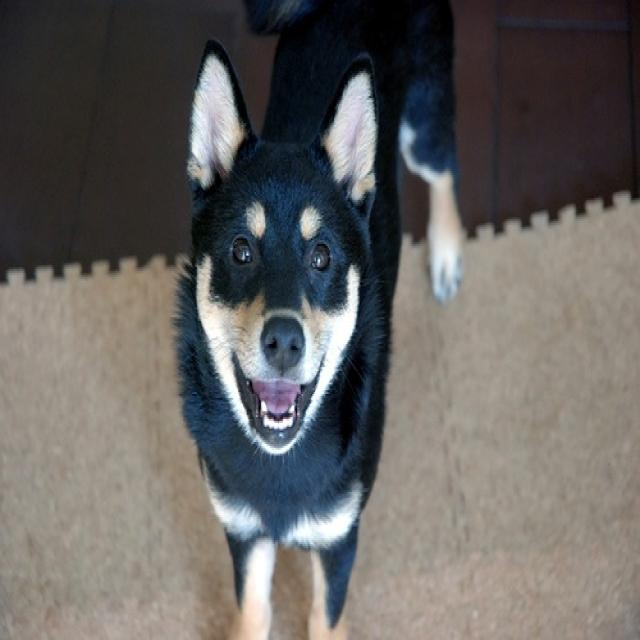dog: (171, 0, 466, 638)
